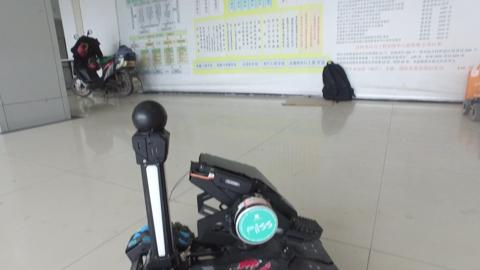bag: (314, 55, 360, 104)
chariot: (104, 122, 343, 270)
